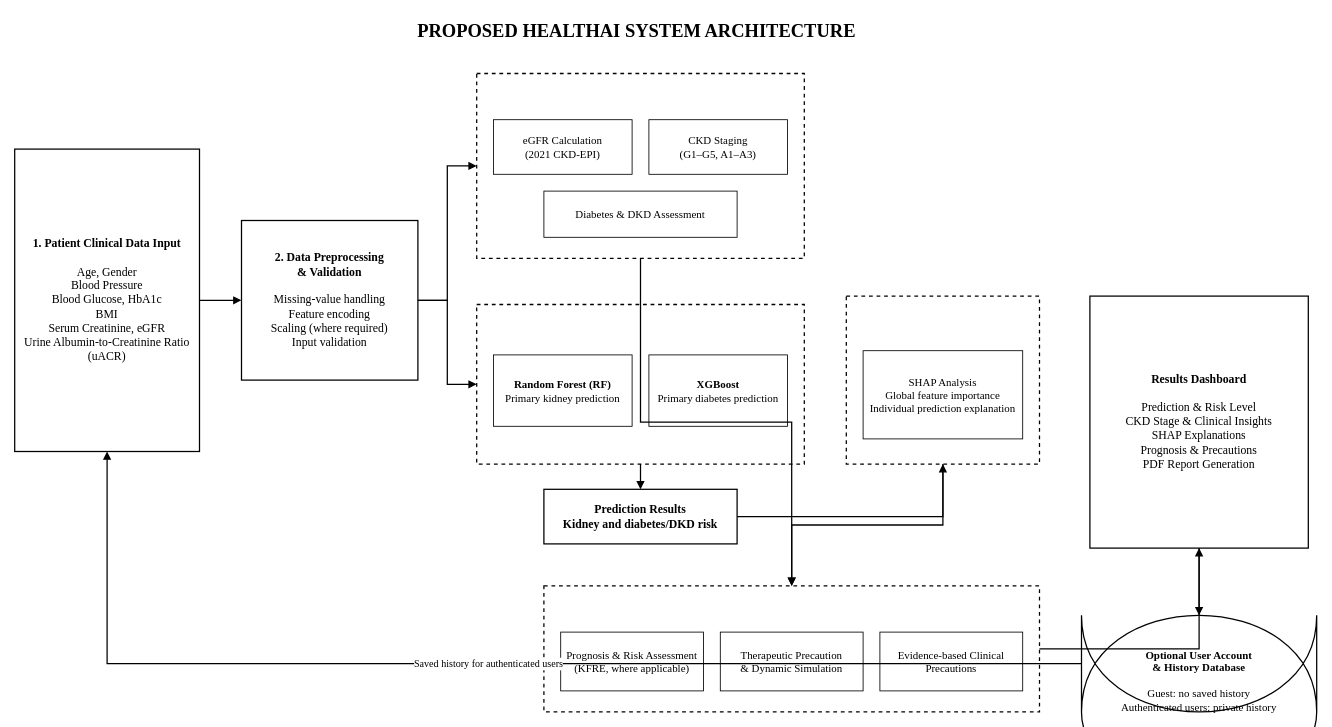
Image size: 1332x727. Some labels were removed from this diagram. The shapes that lost their labels are listed below. From the top down, each one's box as (x1, y1, x2, y2) in pixels, then its label:
(476, 72, 805, 259): Clinical Assessment Module
(476, 303, 805, 464): Machine Learning Prediction Module
(845, 295, 1040, 464): Explainable AI Module
(543, 585, 1040, 712): Clinical Decision Support
